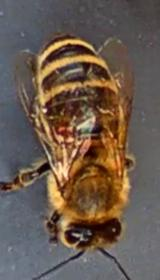varroa_mite: (38, 104, 90, 148)
